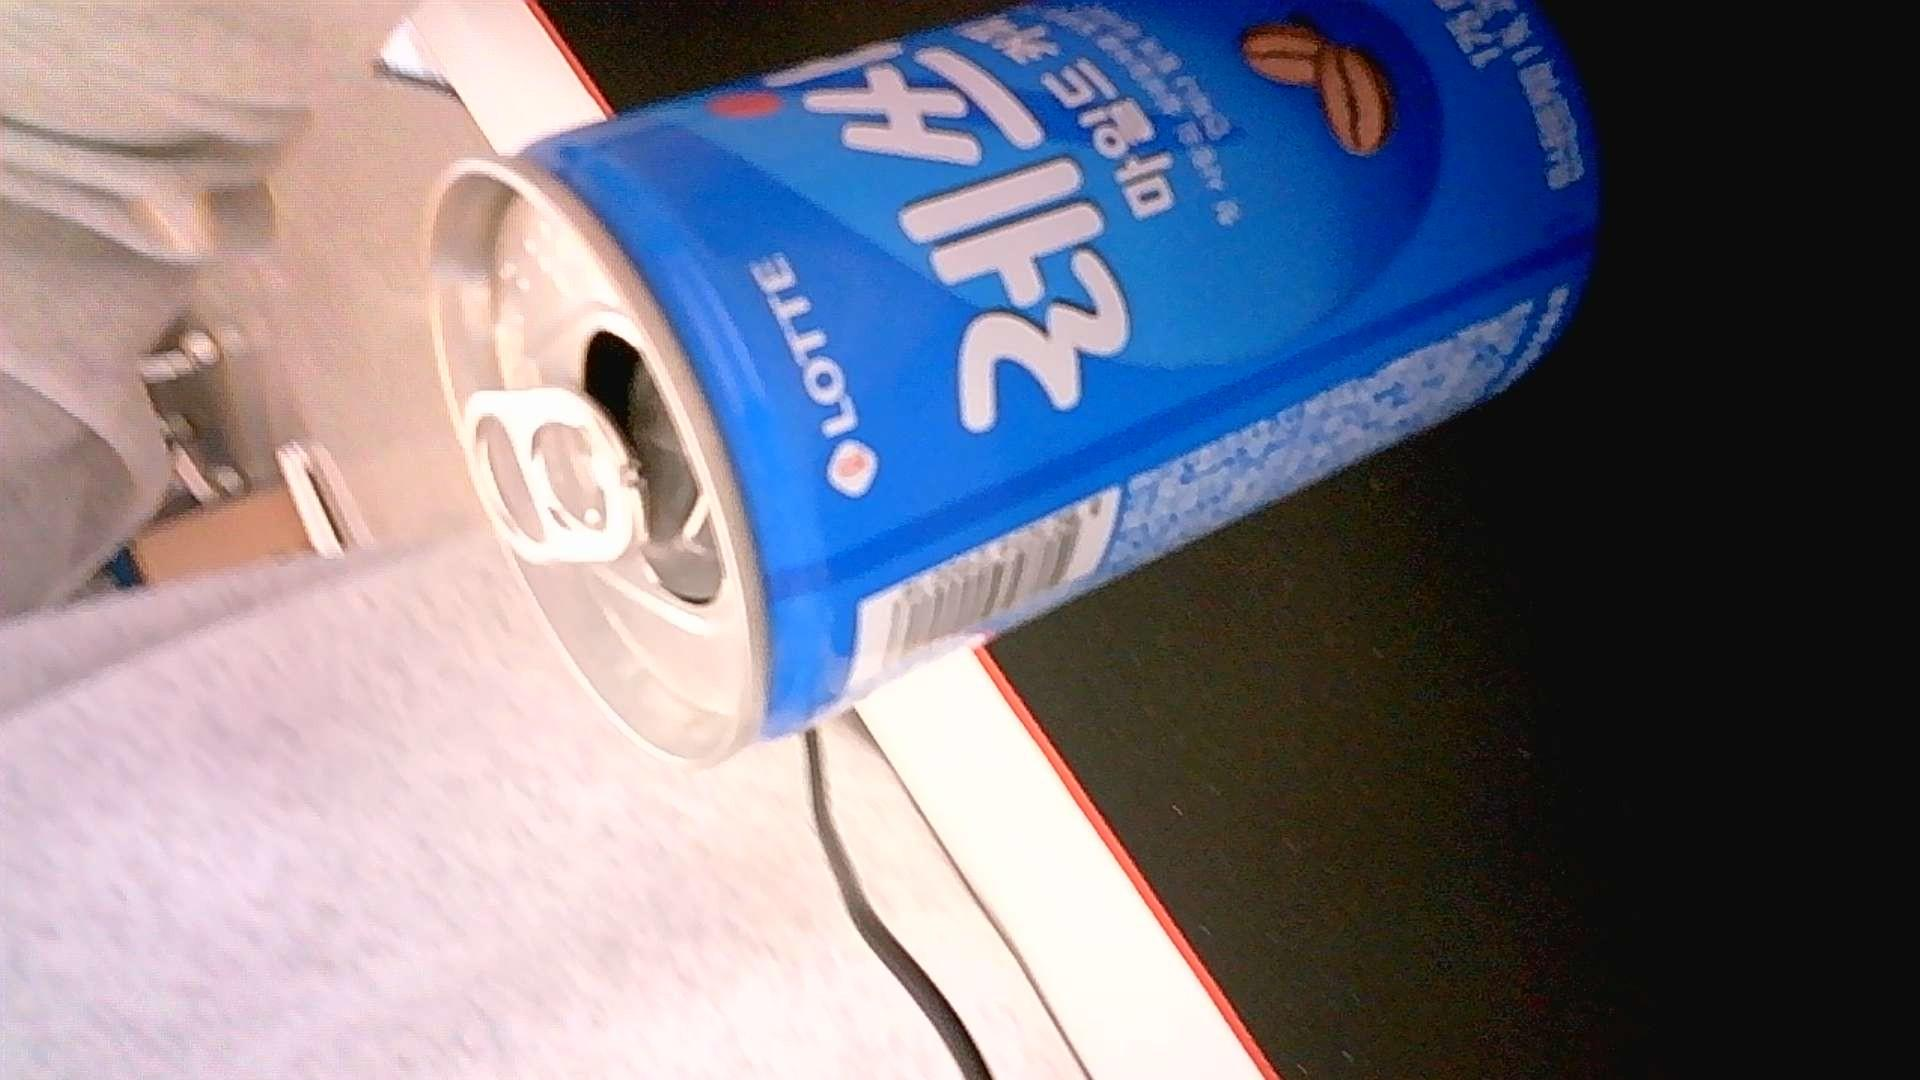letsbe: (423, 0, 1603, 768)
